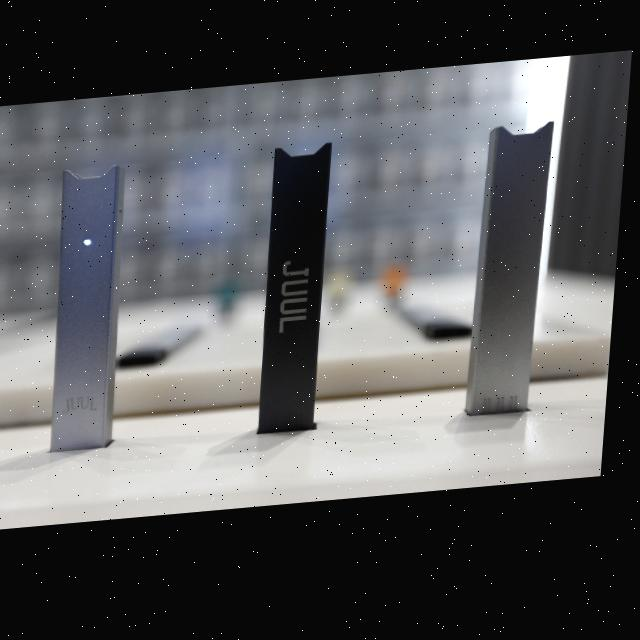vape: (472, 132, 558, 428), (48, 165, 135, 455), (260, 148, 337, 441)
